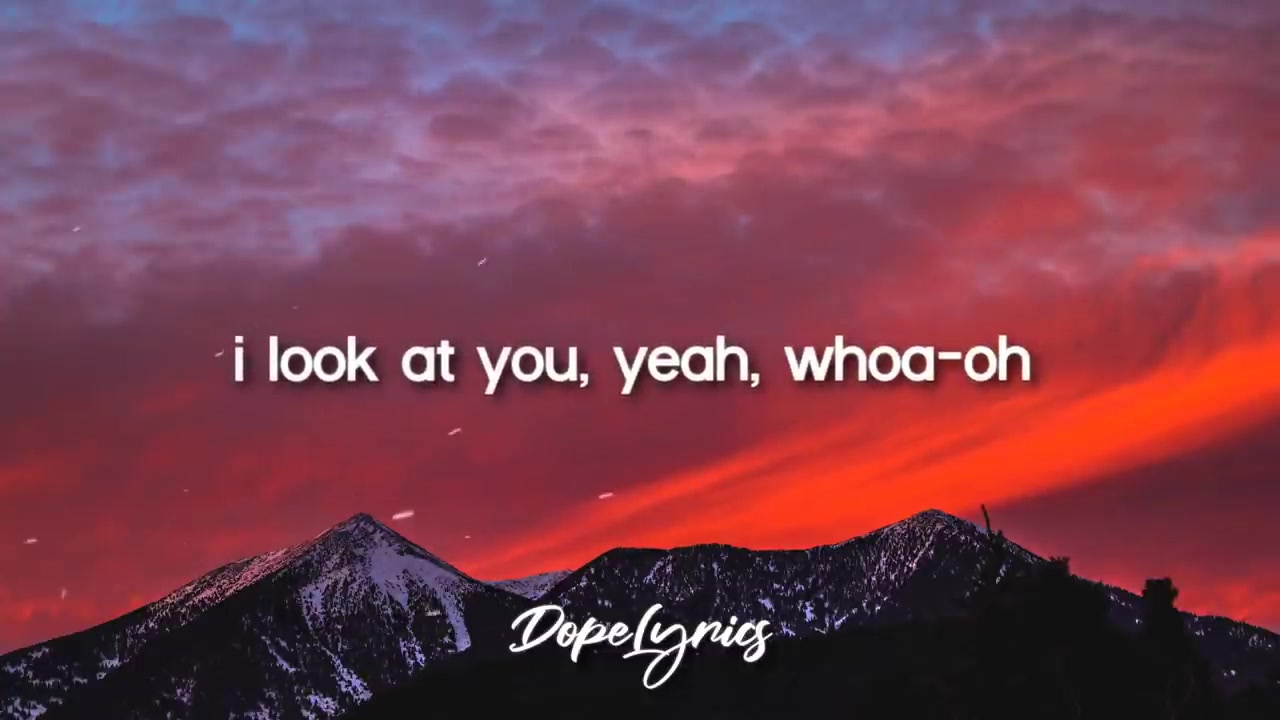text-label: (225, 331, 1036, 387)
